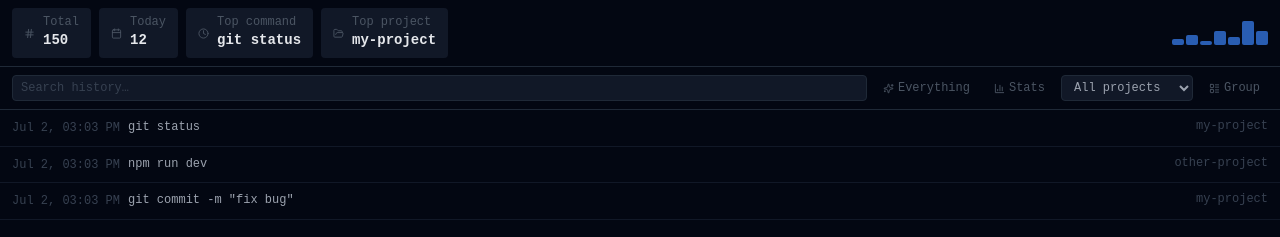
Test case: HistoryTab — search everything mode › toggles into search-everything mode beside the display filter
This screenshot has width=1280, height=237.
Click the button with aria-label "search everything" at (926, 88), box top-left (875, 76), bottom-right (978, 100)
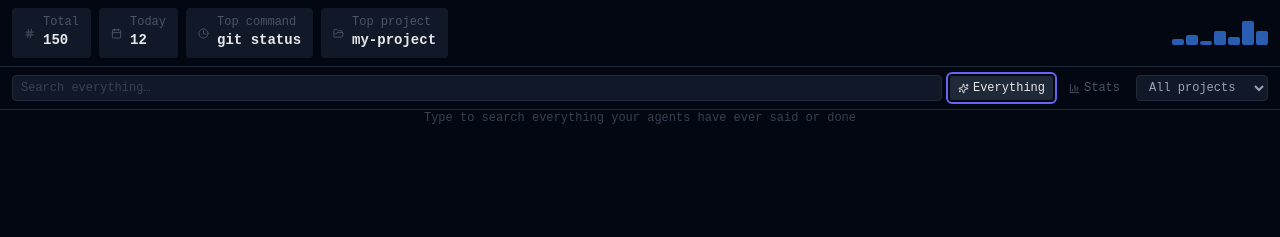
expect the text "Type to search everything your agents have ever said or done" is shown: met, box top-left (424, 111), bottom-right (856, 125)
expect the field with placeholder "Search everything…" is shown: met, box top-left (12, 75), bottom-right (942, 101)
